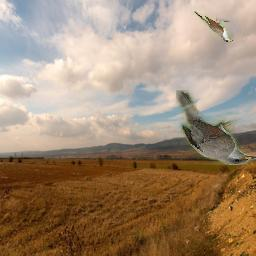Cuckoo: (176, 91, 256, 166), (195, 12, 234, 43)
